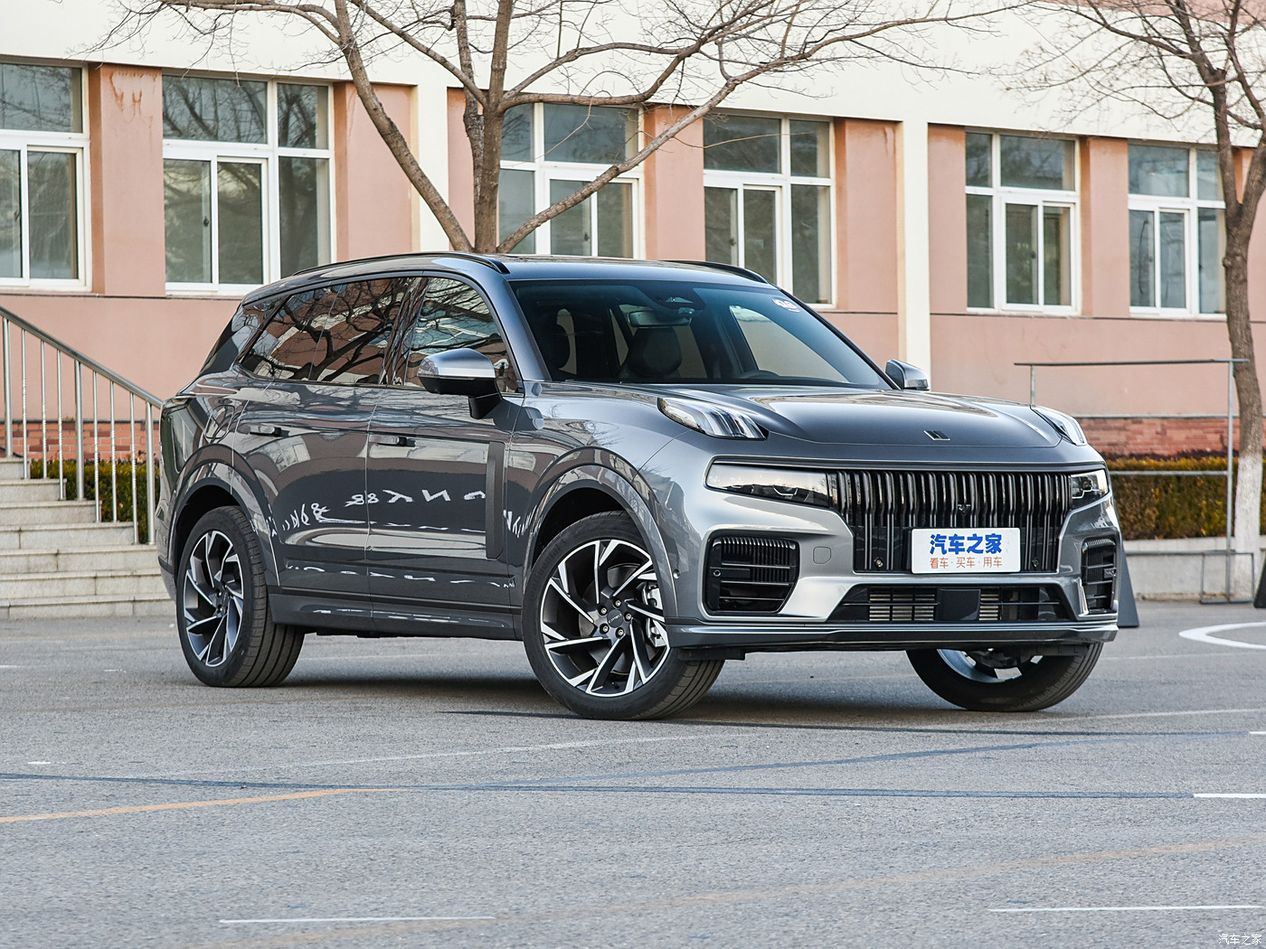LINK&CO: (924, 430, 950, 440)
